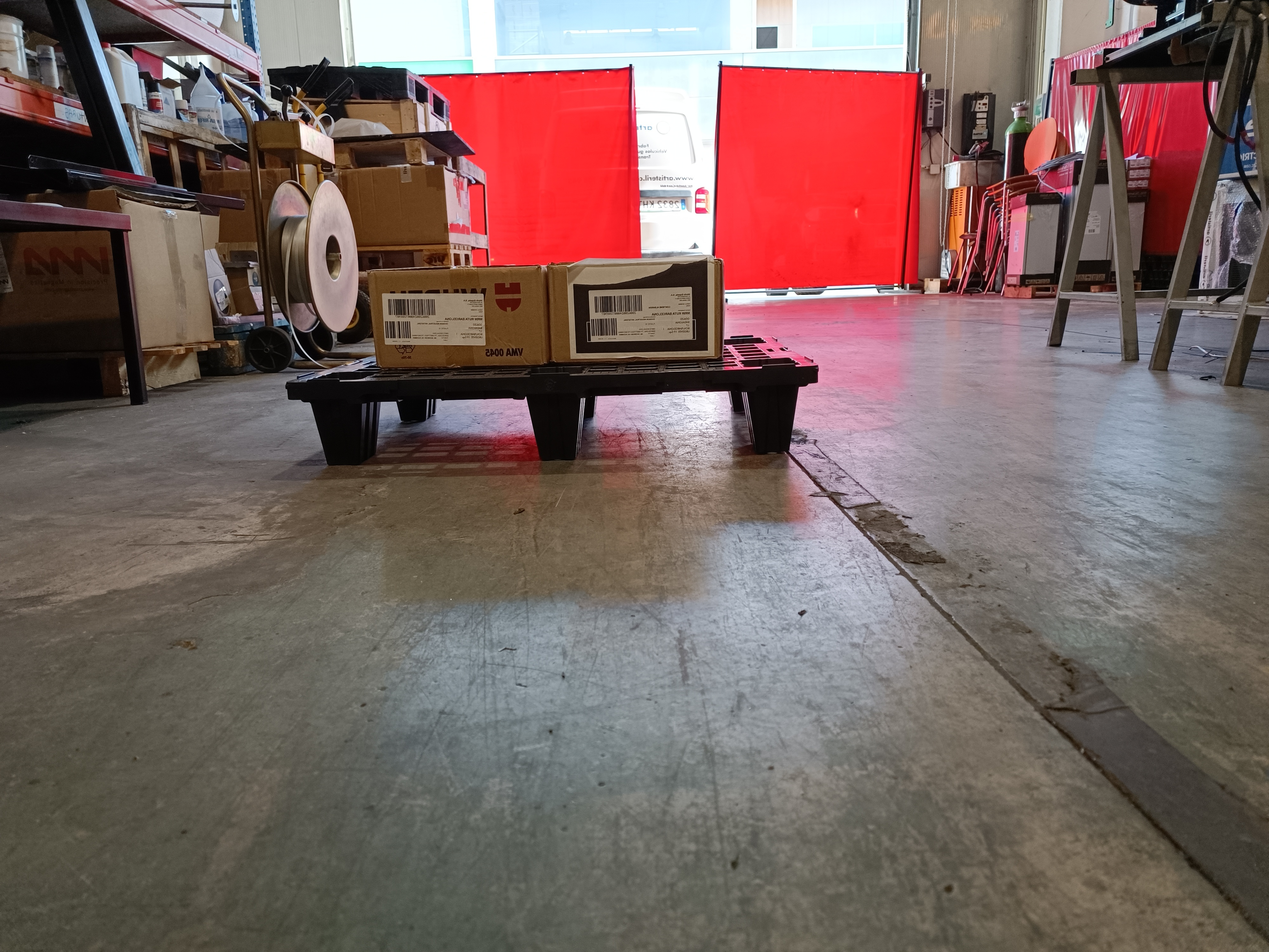block: (304, 391, 380, 462), (527, 397, 587, 463), (746, 389, 795, 455), (393, 394, 442, 429)
front: (289, 368, 820, 475)
hole pallet: (571, 397, 759, 457), (370, 403, 536, 462)
